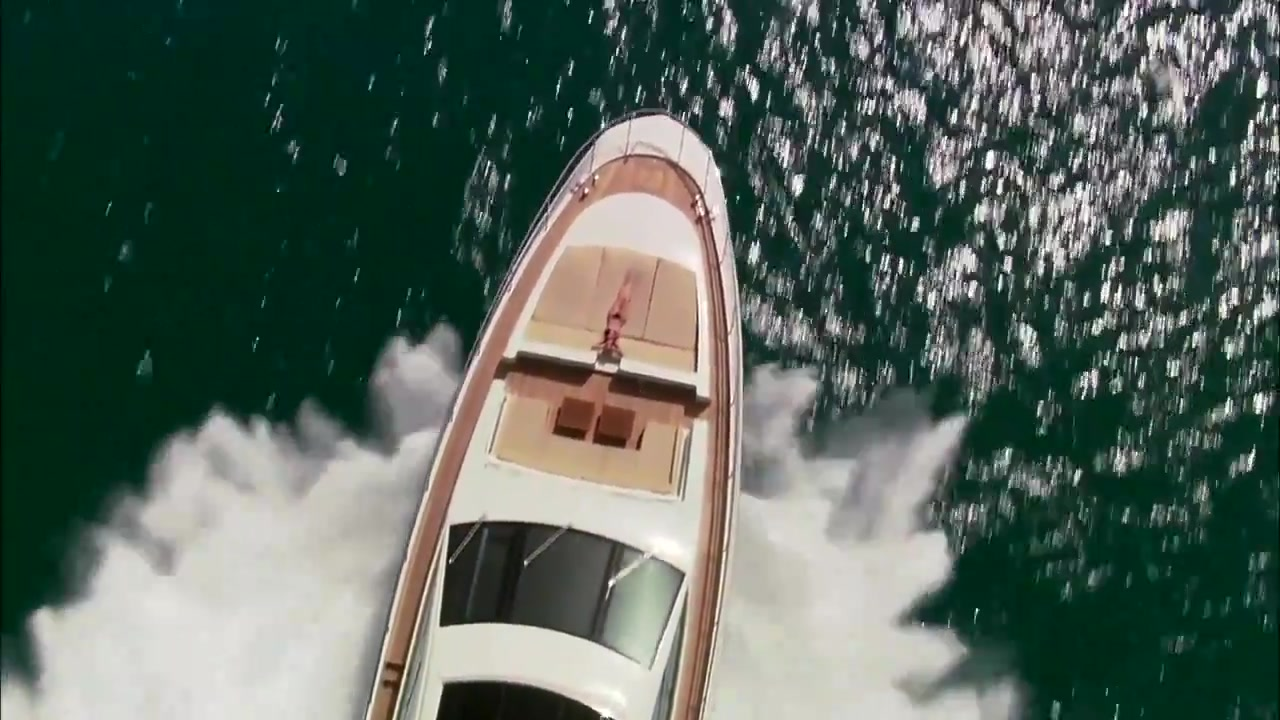boat: (356, 106, 751, 720)
